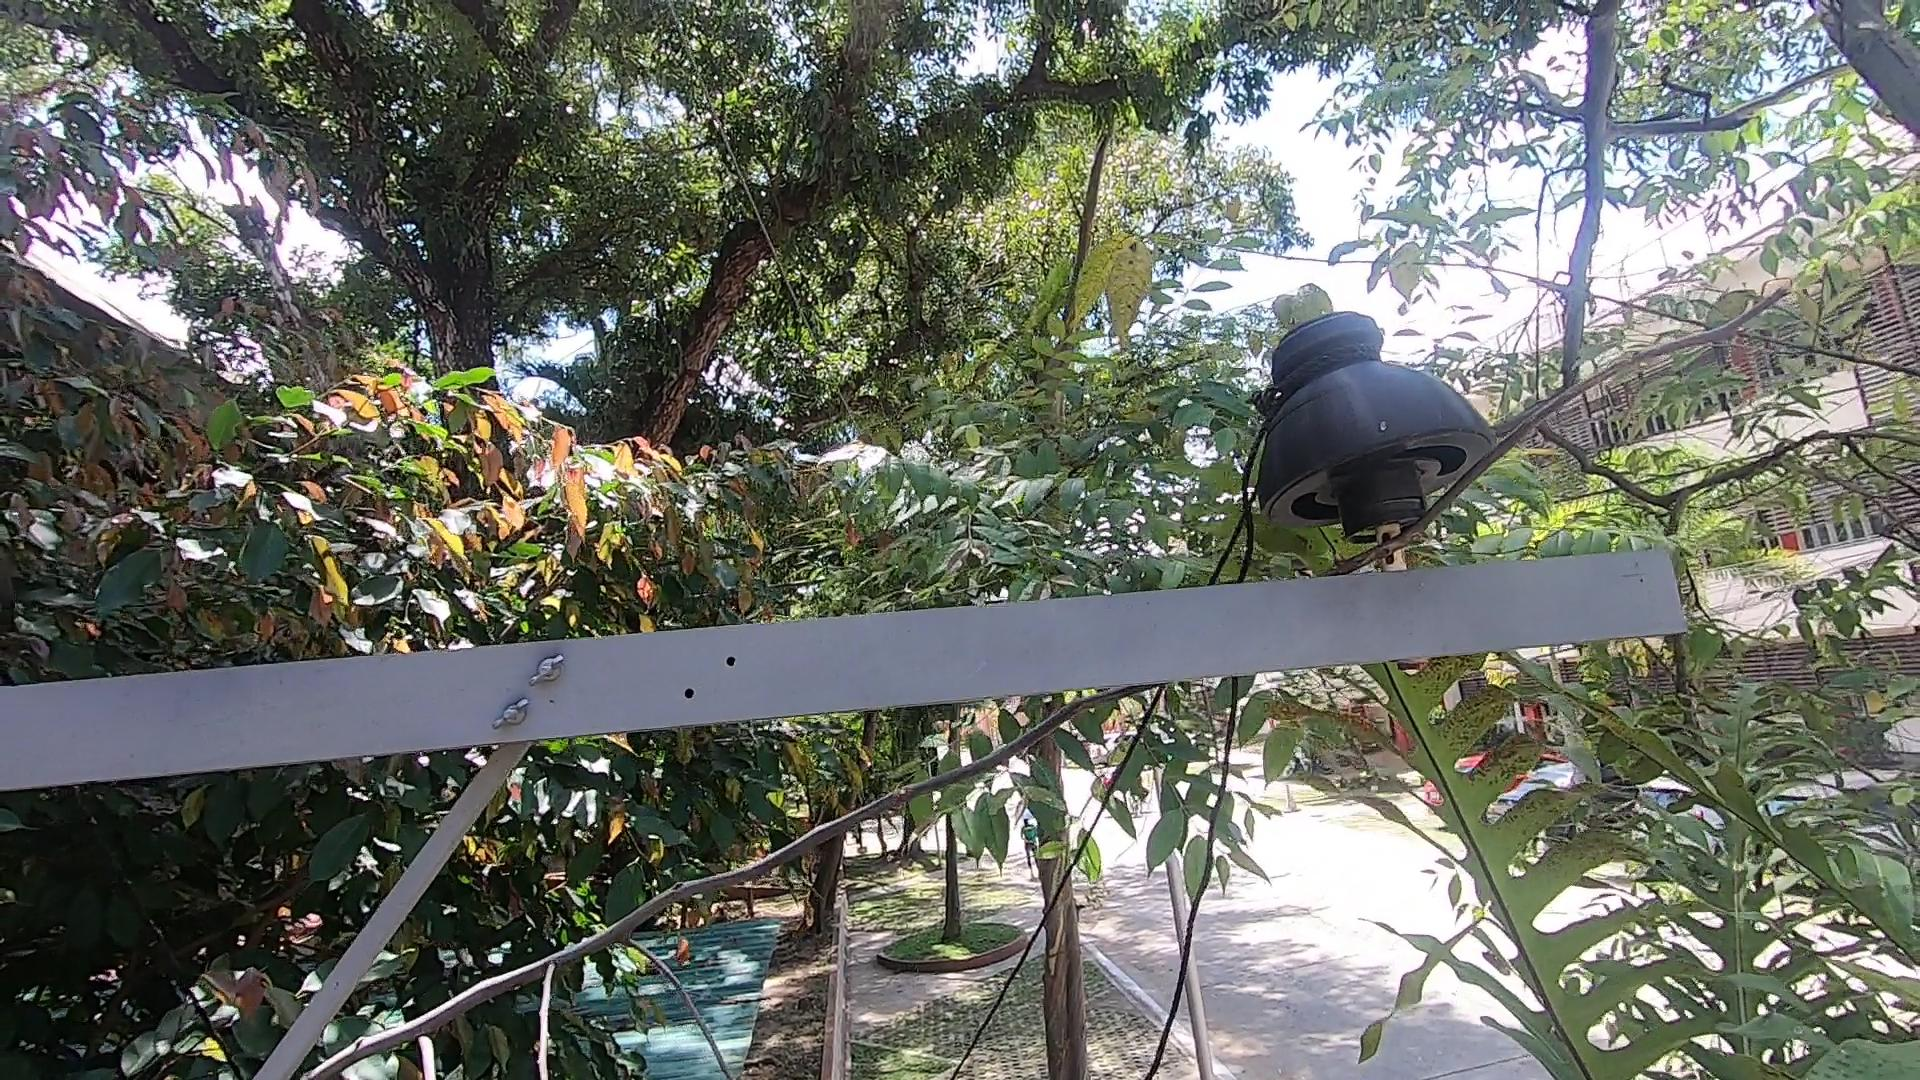tree branch: (264, 258, 1828, 1080)
